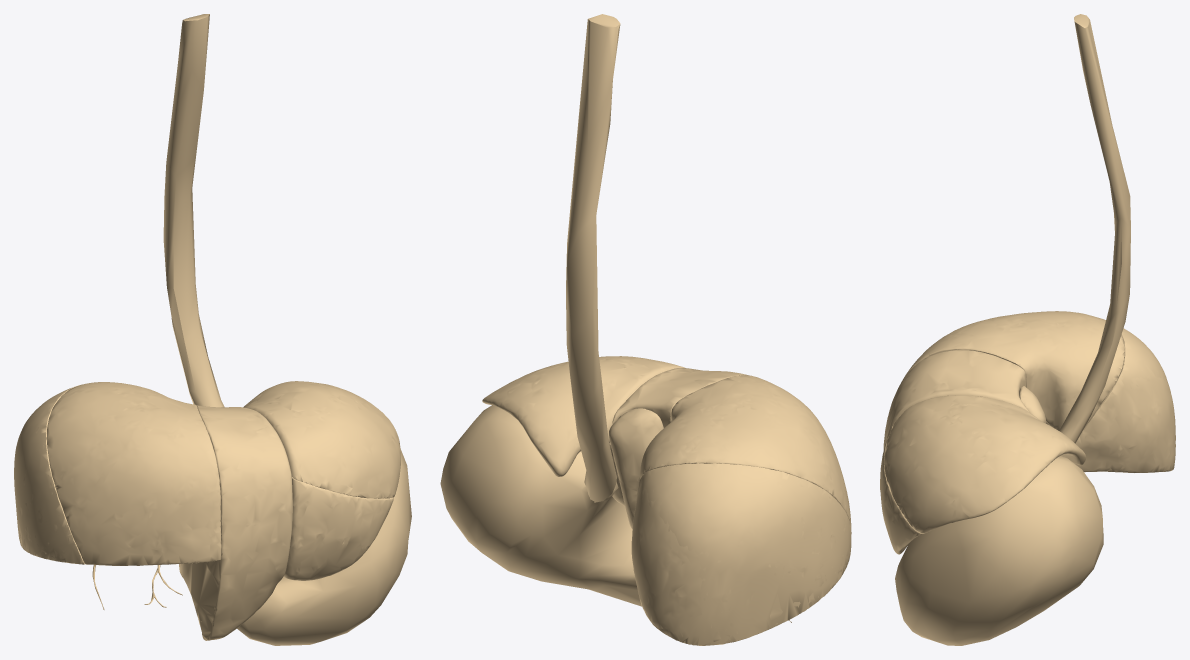
File: digestif-thorax.lo.glb
3 views of the same model, side by side, from view 1: azimuth 30°, elevation 25°; view 2: azimuth 150°, elevation 25°; view 3: azimuth 270°, elevation 25° (orthographic). The views are drawn at different scales.
Visible parts, largest first — view 1: FJ2824, FJ2820, FJ2818, FJ2563, FJ2564, FJ2819, FJ1858, FJ2823; view 2: FJ1858, FJ2564, FJ2563, FJ2824, FJ2823, FJ2818, FJ2816, FJ2820; view 3: FJ2564, FJ2818, FJ2824, FJ2563, FJ2823, FJ2820, FJ1858, FJ2819, FJ2816.
Part boxes in pixels (left/top/right/bottom): FJ2824: left=46, top=382, right=221, bottom=565; FJ2820: left=179, top=405, right=292, bottom=640; FJ2818: left=243, top=381, right=400, bottom=498; FJ2563: left=163, top=14, right=224, bottom=407; FJ2564: left=237, top=449, right=411, bottom=645; FJ2819: left=284, top=477, right=393, bottom=580; FJ1858: left=14, top=385, right=84, bottom=564; FJ2823: left=14, top=389, right=70, bottom=559; FJ1858: left=640, top=463, right=851, bottom=645; FJ2564: left=440, top=405, right=641, bottom=606; FJ2563: left=566, top=14, right=620, bottom=502; FJ2824: left=640, top=375, right=851, bottom=527; FJ2823: left=631, top=465, right=850, bottom=644; FJ2818: left=482, top=356, right=684, bottom=476; FJ2816: left=609, top=408, right=663, bottom=528; FJ2820: left=612, top=368, right=747, bottom=427; FJ2564: left=895, top=456, right=1103, bottom=645; FJ2818: left=884, top=395, right=1086, bottom=533; FJ2824: left=902, top=311, right=1124, bottom=430; FJ2563: left=1059, top=14, right=1130, bottom=456; FJ2823: left=1074, top=330, right=1175, bottom=472; FJ2820: left=883, top=350, right=1029, bottom=449; FJ1858: left=1103, top=319, right=1174, bottom=472; FJ2819: left=880, top=425, right=923, bottom=554; FJ2816: left=1019, top=386, right=1046, bottom=423.
Bounding box in the file's own units: 0.2206 × 0.3505 × 0.159.
